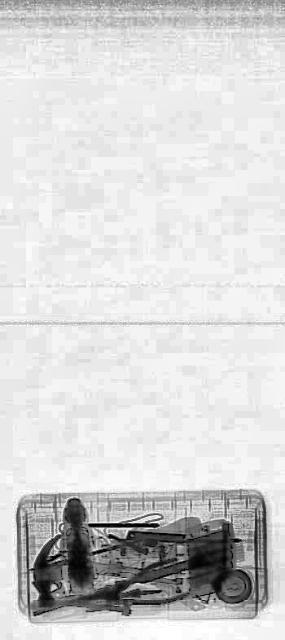Pliers: (92, 556, 180, 618)
